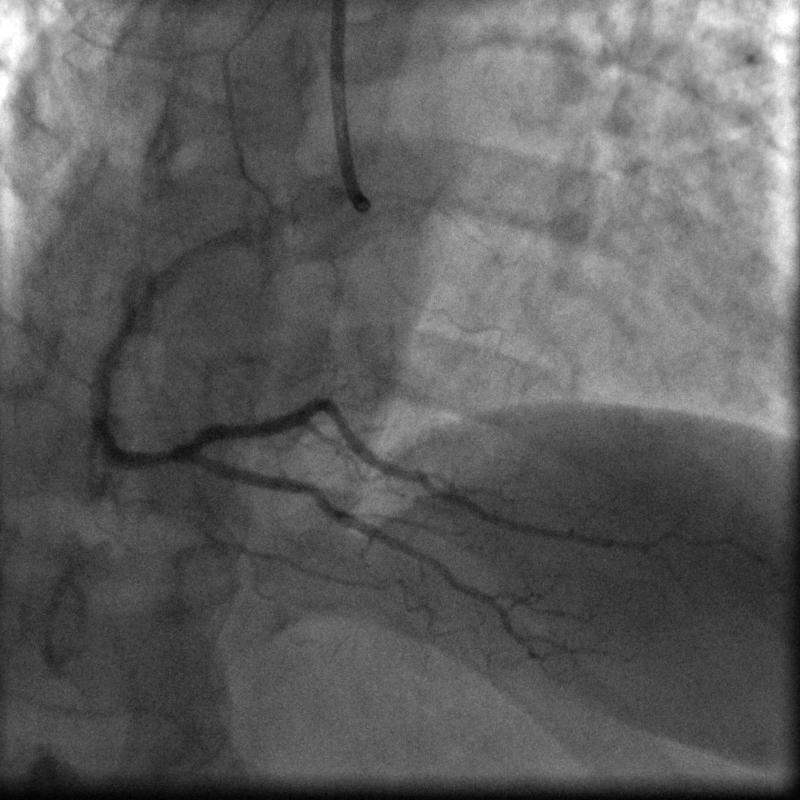Stenosis: (142, 440, 184, 465)
